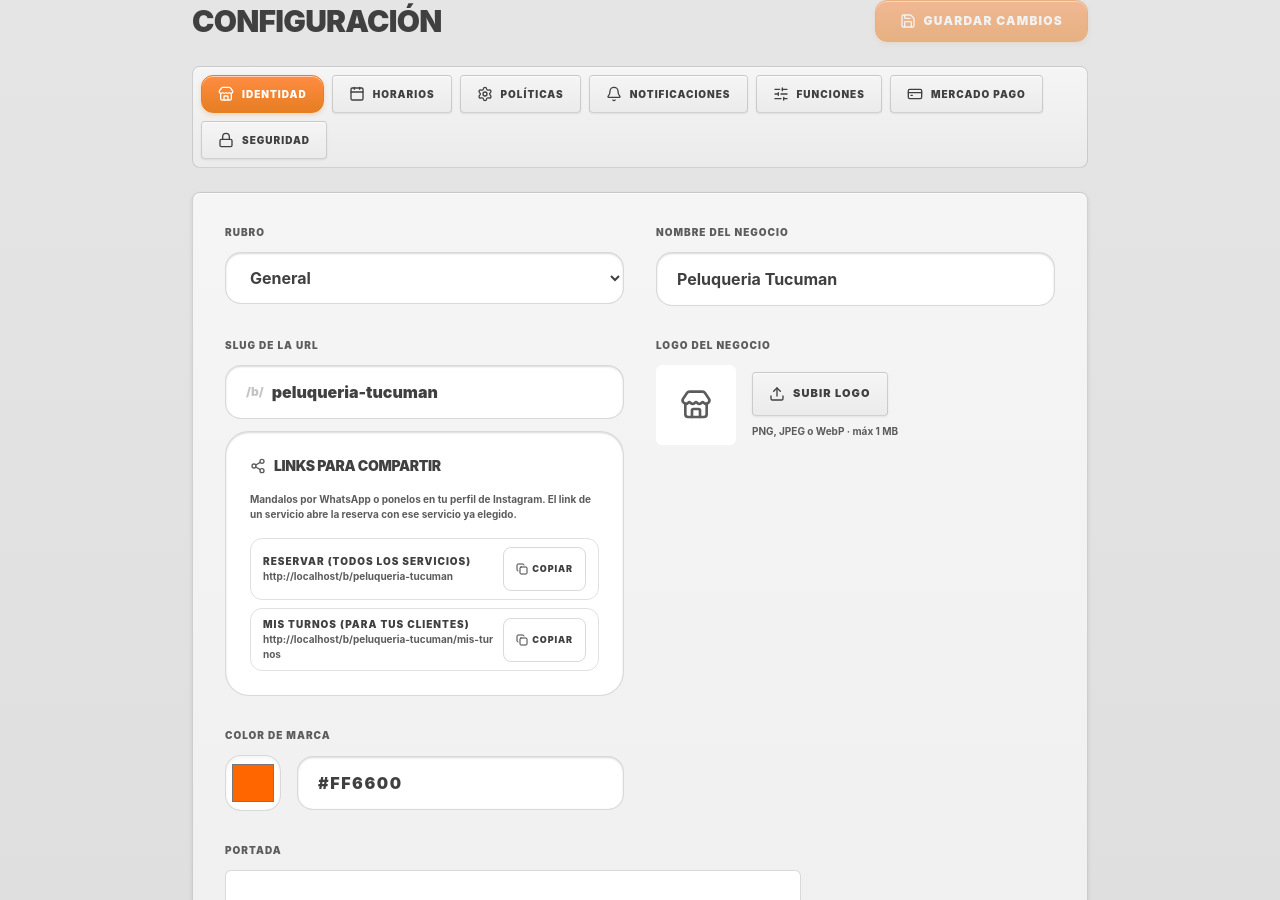
Test: SettingsPage - slug repetido (409) › si tambien cambiaron los horarios, el 409 queda con el texto neutro
The width and height of the screenshot is (1280, 900).
Replace the text in the field named "Slug de la URL" with "otro-local". click: (437, 392)
box: [272, 380, 603, 404]
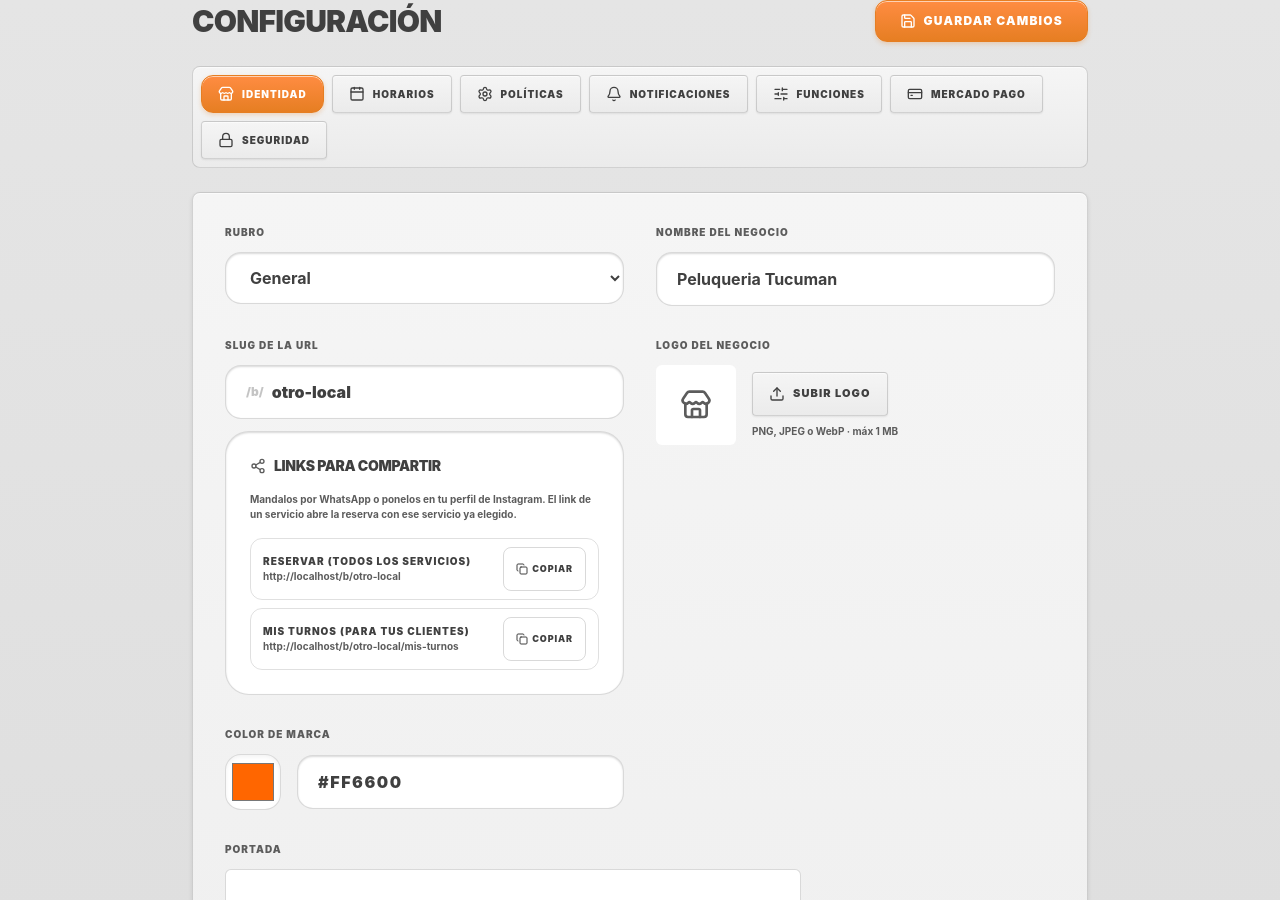
Click the button "Horarios". click: (392, 94)
box: [332, 75, 452, 113]
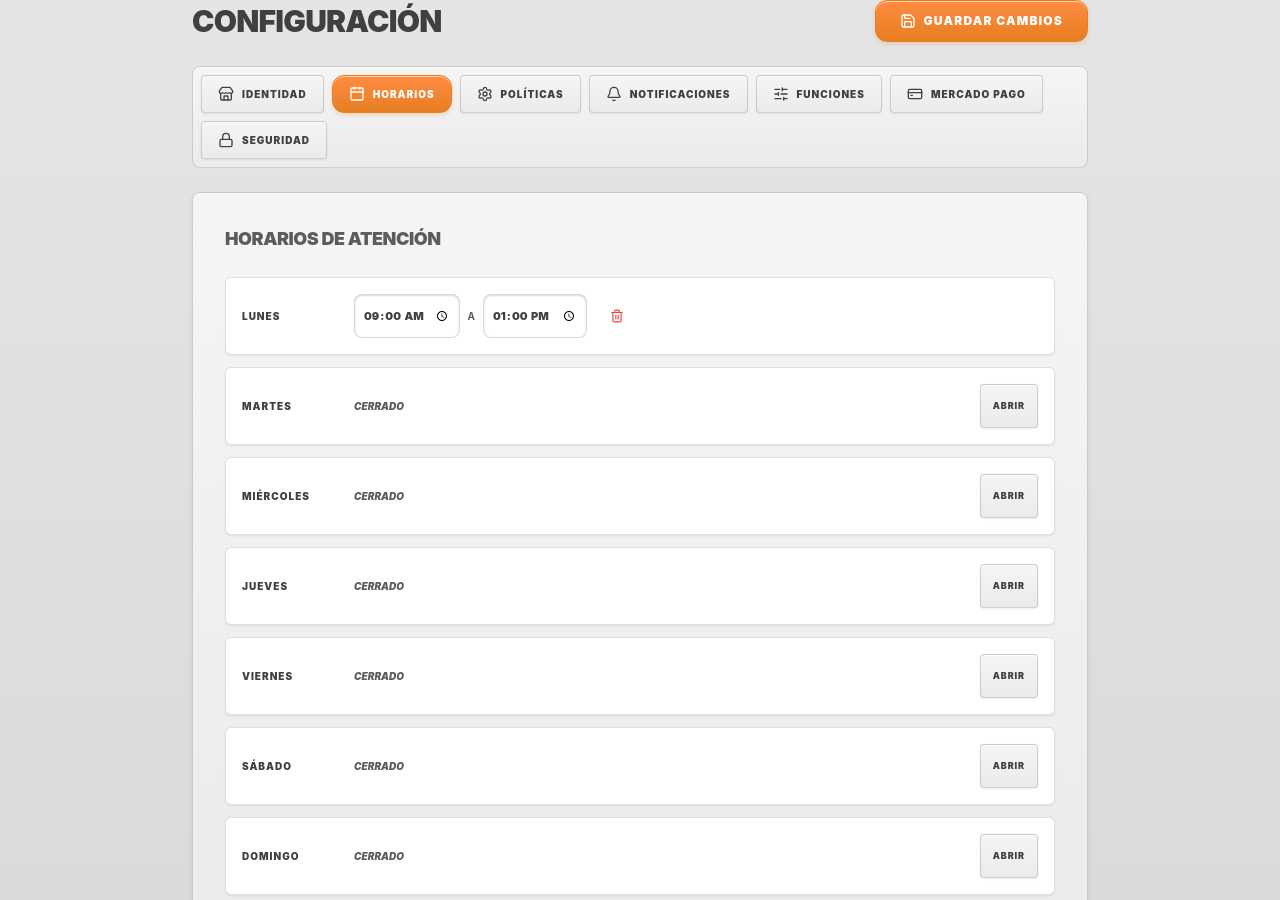
Click the button with aria-label "Abrir Martes". click: (1009, 406)
box: [980, 384, 1038, 428]
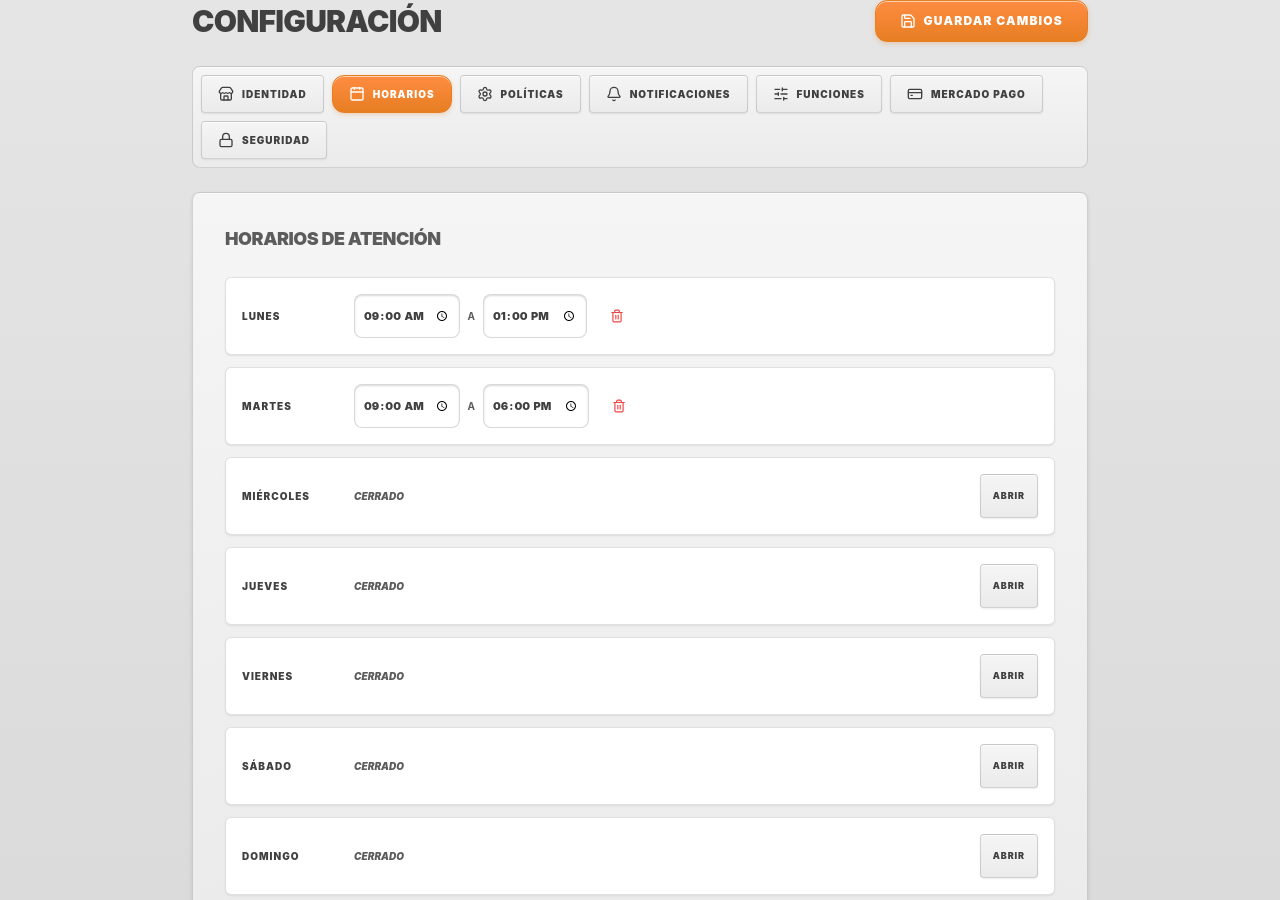
Click the button "Guardar Cambios". click: (981, 21)
box: [874, 0, 1088, 42]
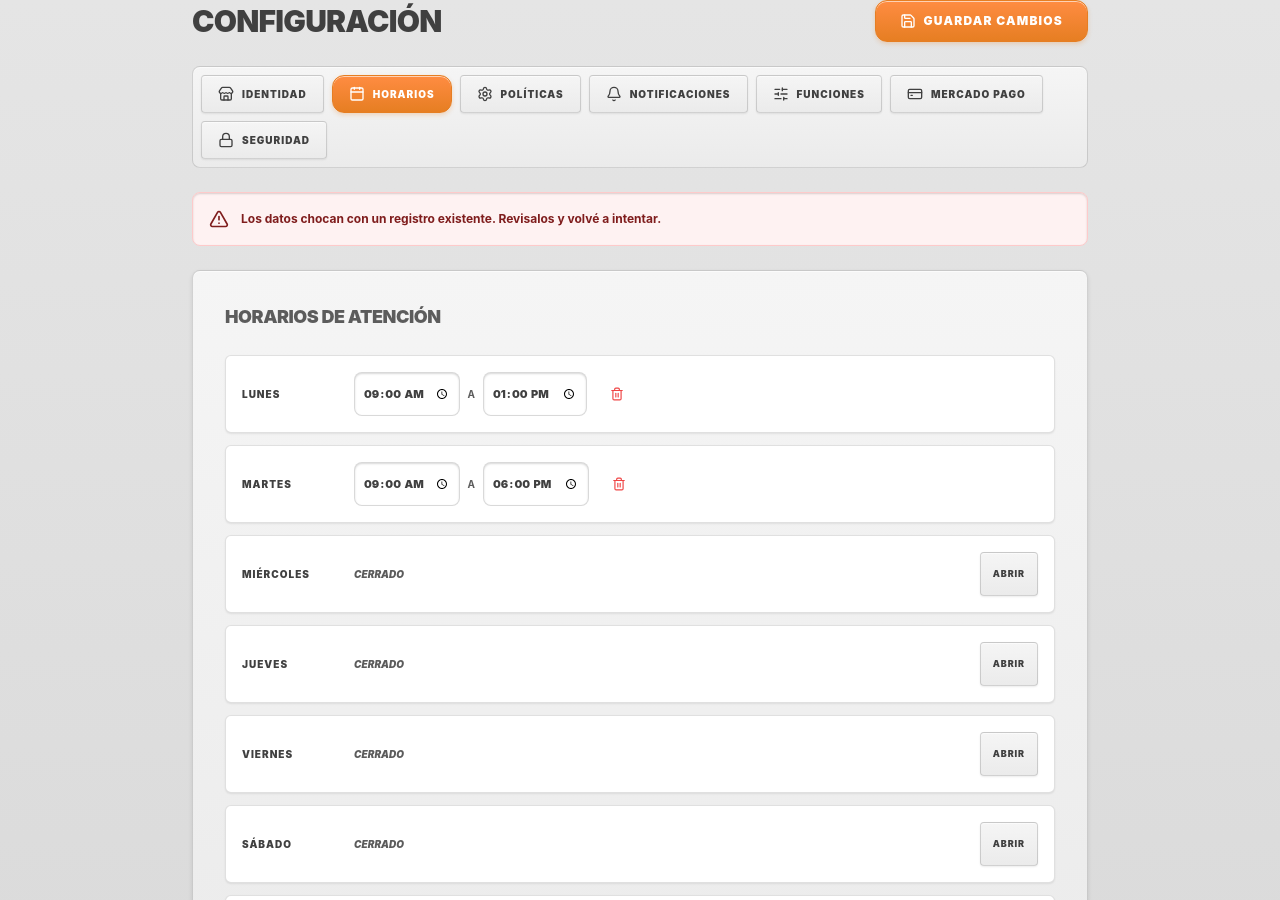
Expected: the text "Los datos chocan con un registro existente" is shown, [241, 211, 661, 226]
